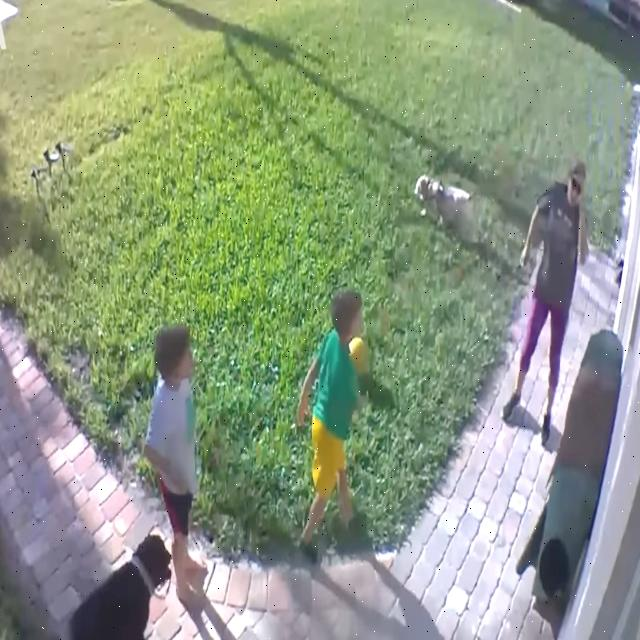standing: (503, 163, 588, 444), (298, 290, 364, 561), (144, 325, 207, 603)
